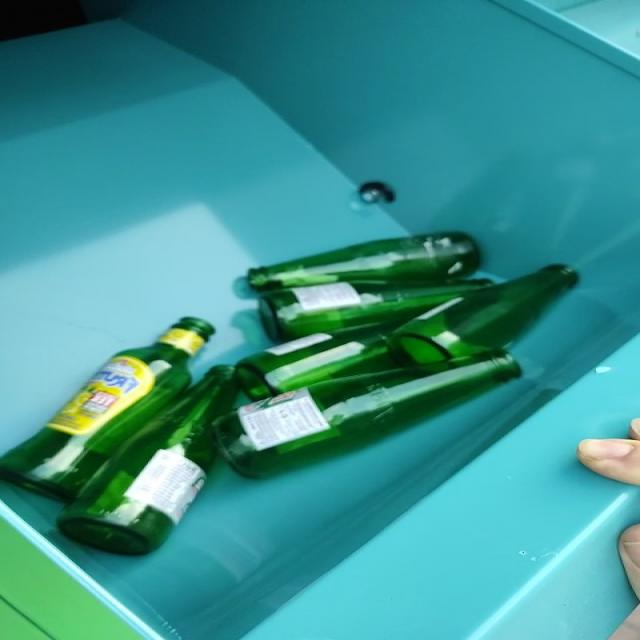glass: (0, 233, 577, 556)
